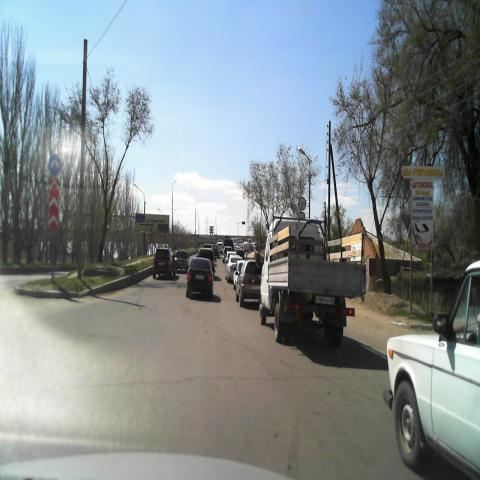3_14: (298, 196, 306, 210)
3_6: (298, 212, 306, 225)
